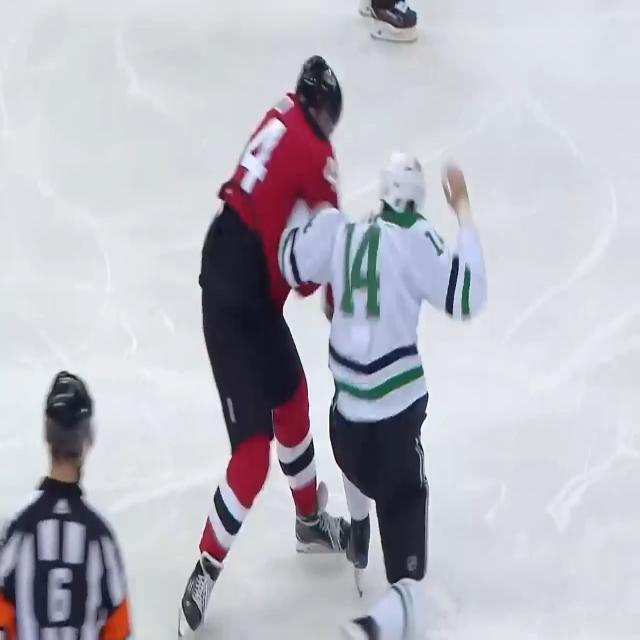fight: (197, 39, 487, 640)
